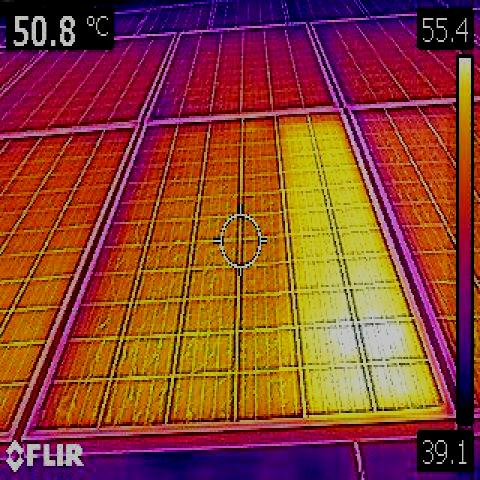fault: (279, 115, 447, 418)
